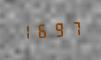nine: (50, 20, 65, 38)
one: (18, 22, 33, 41)
seven: (66, 18, 81, 37)
six: (34, 21, 49, 40)
